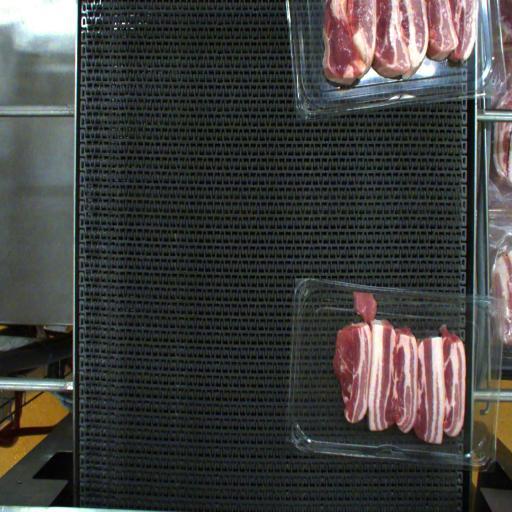loose-meat: (349, 273, 389, 328)
